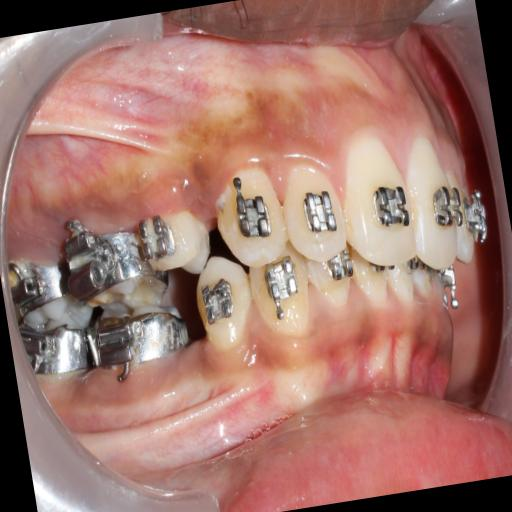correct_brace: (134, 207, 212, 276), (228, 172, 276, 242), (196, 275, 240, 335), (298, 181, 341, 242), (366, 178, 412, 234)
incorrect_brace: (278, 161, 351, 263), (138, 214, 178, 262)
